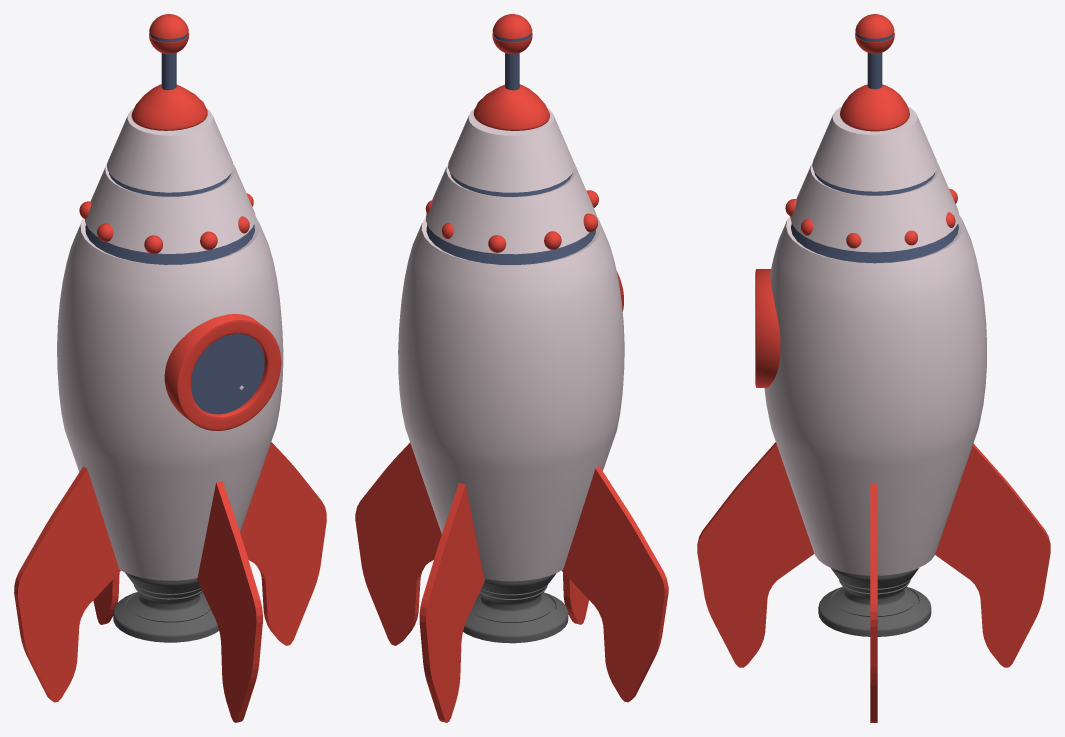
Rendered from rocket.glb.
3 renders of one model, left to right at view 1: azimuth 30°, elevation 25°; view 2: azimuth 150°, elevation 25°; view 3: azimuth 270°, elevation 25°, orthographic.
Parts seen in each view (by area): view 1: Cylinder, Plane.002, Plane, Cylinder.002, Plane.003, Cylinder.003, Sphere, Sphere.001, Sphere.002, Plane.001, Cylinder.001; view 2: Cylinder, Plane.002, Plane, Plane.001, Cylinder.003, Sphere, Sphere.001, Sphere.002, Plane.003, Cylinder.001; view 3: Cylinder, Plane.003, Plane.001, Cylinder.003, Cylinder.002, Sphere, Plane, Sphere.001, Sphere.002, Cylinder.001.
Boxes of the visible parts, x1,y1,x2,y2 form: Cylinder: (57,108,283,580); Plane.002: (14,466,120,702); Plane: (240,442,326,645); Cylinder.002: (164,314,281,430); Plane.003: (196,481,262,722); Cylinder.003: (113,572,218,642); Sphere: (131,84,207,130); Sphere.001: (149,14,189,54); Sphere.002: (79,193,253,254); Plane.001: (93,572,119,624); Cylinder.001: (161,53,176,90); Cylinder: (398,108,624,581); Plane.002: (562,466,668,702); Plane: (355,442,441,645); Plane.001: (419,483,485,722); Cylinder.003: (463,573,568,643); Sphere: (473,84,549,130); Sphere.001: (492,14,532,54); Sphere.002: (425,190,598,252); Plane.003: (563,572,588,624); Cylinder.001: (505,53,519,90); Cylinder: (764,106,986,575); Plane.003: (697,442,814,667); Plane.001: (935,443,1050,667); Cylinder.003: (818,568,931,636); Cylinder.002: (755,269,780,387); Sphere: (840,84,909,131); Plane: (870,484,877,722); Sphere.001: (855,14,894,53); Sphere.002: (785,188,957,248); Cylinder.001: (867,53,882,89).
Size of the model in its own units: 0.3741 by 0.7597 by 0.3741.
